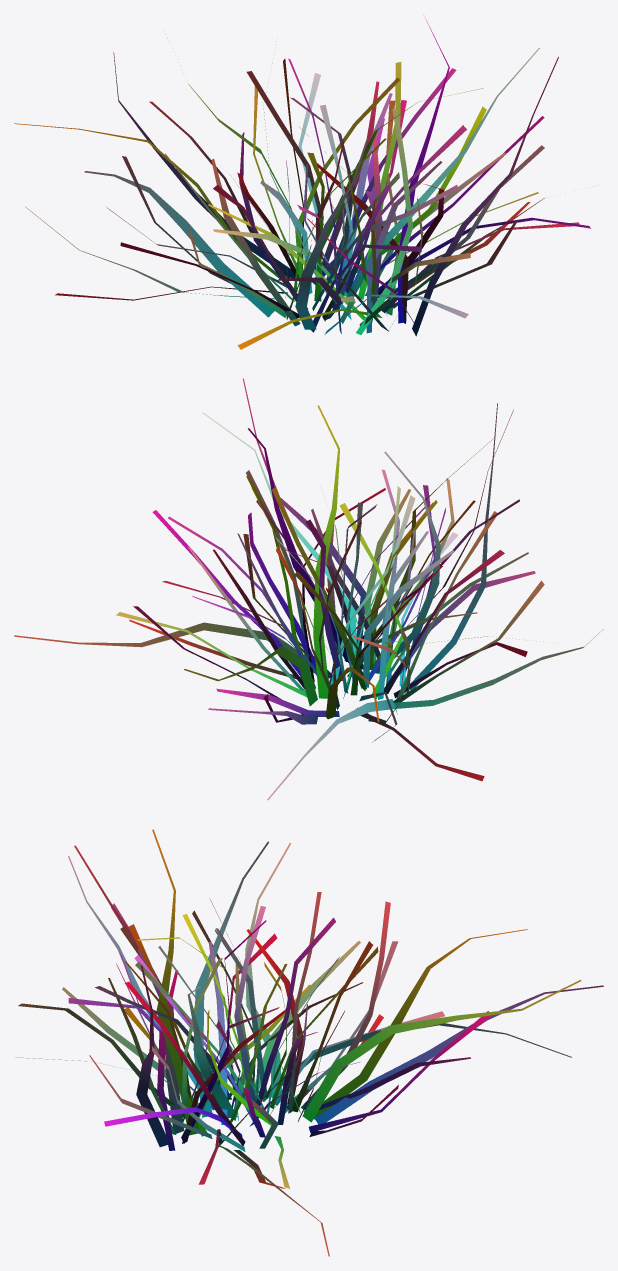
The model's file is Wild_Grass_vlkhcbxia_High_vlkhcbxia_VarE_LOD1.fbx.
3 views of the same model, one above another, from view 1: azimuth 30°, elevation 25°; view 2: azimuth 150°, elevation 25°; view 3: azimuth 270°, elevation 25° (orthographic). The views are drawn at different scales.
Parts seen in each view (by area): view 1: _bwg4_VarE_LOD2; view 2: _bwg4_VarE_LOD2; view 3: _bwg4_VarE_LOD2.
Boxes of the visible parts, x1,y1,x2,y2 form: _bwg4_VarE_LOD2: [14, 20, 590, 349]; _bwg4_VarE_LOD2: [14, 378, 603, 800]; _bwg4_VarE_LOD2: [15, 829, 603, 1256].
Bounding box in the file's own units: 40.58 × 18.14 × 36.07.
